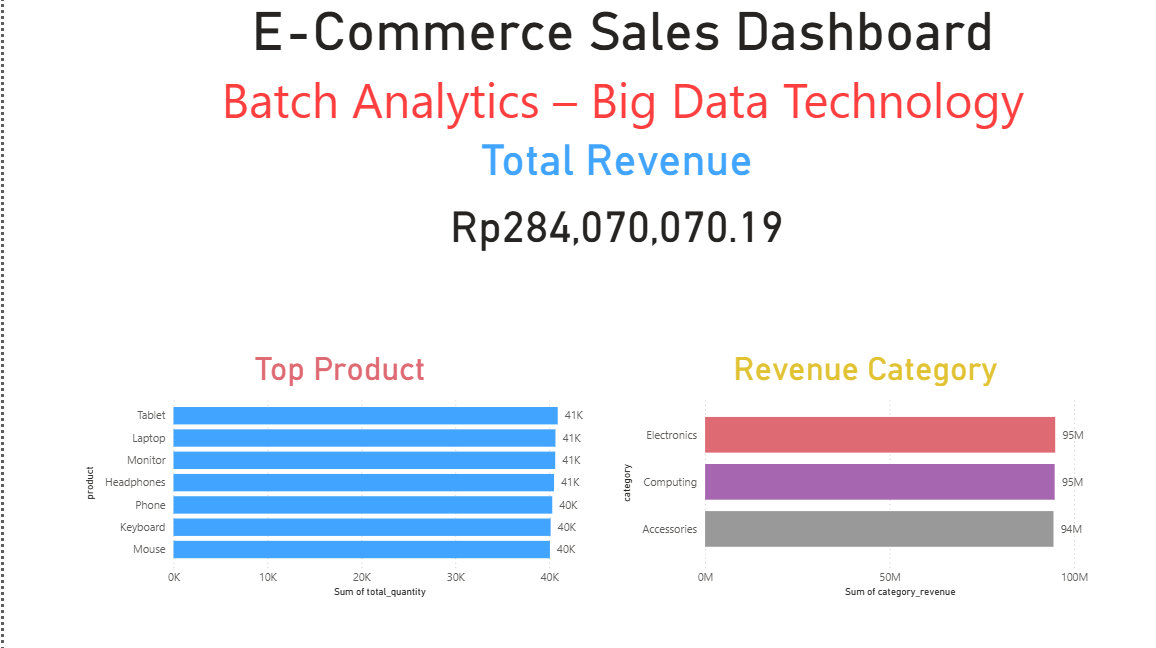

The page's visual inventory and layout, read from the dashboard file:
{"tool":"powerbi","page":{"name":"Page 1","canvas":[1280,720],"ordinal":0},"visuals":[{"type":"card","title":"Total Revenue","fields":{"Values":["Sum(part-00000-348107b9-f46a-4cf0-b05b-51c2b43542c9-c000.total_revenue)"]},"box":[238.3,150,885,136.7],"z":1000},{"type":"clusteredBarChart","title":"Revenue Category","fields":{"Category":["part-00000-8526ad65-2364-4e7c-b2c9-96fabd2dfaa2-c000.category"],"Y":["Sum(part-00000-8526ad65-2364-4e7c-b2c9-96fabd2dfaa2-c000.category_revenue)"]},"box":[681.7,388.3,551.7,280],"z":1001},{"type":"clusteredBarChart","title":"Top Product","fields":{"Category":["part-00000-9305f41d-b321-4a6c-9092-38445553da69-c000.product"],"Y":["Sum(part-00000-9305f41d-b321-4a6c-9092-38445553da69-c000.total_quantity)"]},"box":[85,388.3,576.7,280],"z":1002},{"type":"textbox","title":"E-Commerce Sales Dashboard","box":[141.7,0,1091.7,150],"z":1003}]}

Visuals, with their boxes in screenshot pixels (x1, y1, x2, y2), scaled from the page's 1280x720 canvas onto the 1156x648 screenshot:
"Total Revenue" card: 215 135 1014 258
"Revenue Category" clusteredBarChart: 616 349 1114 601
"Top Product" clusteredBarChart: 77 349 598 601
"E-Commerce Sales Dashboard" textbox: 128 0 1114 135
